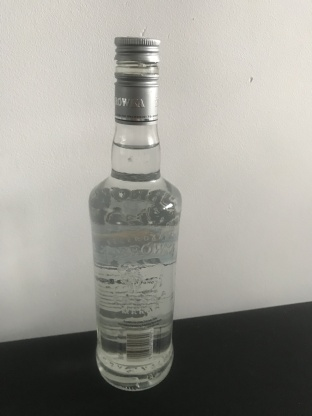nakretka: (112, 35, 162, 126)
